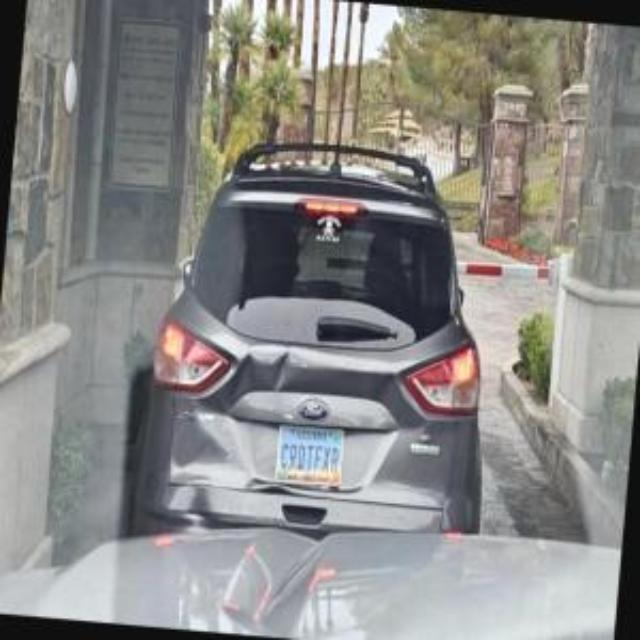License Plate: (273, 422, 344, 485)
